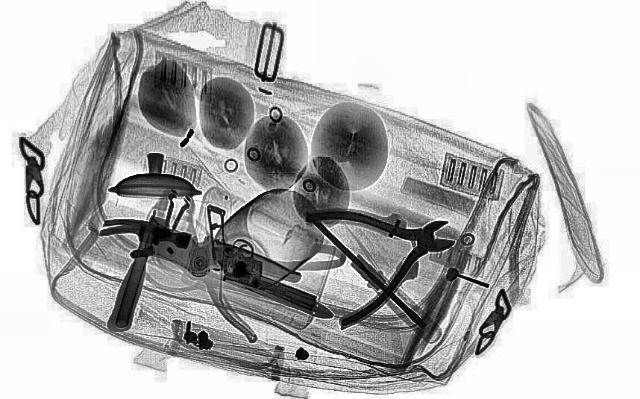Gun: (151, 200, 347, 324)
Pliers: (275, 188, 495, 326)
